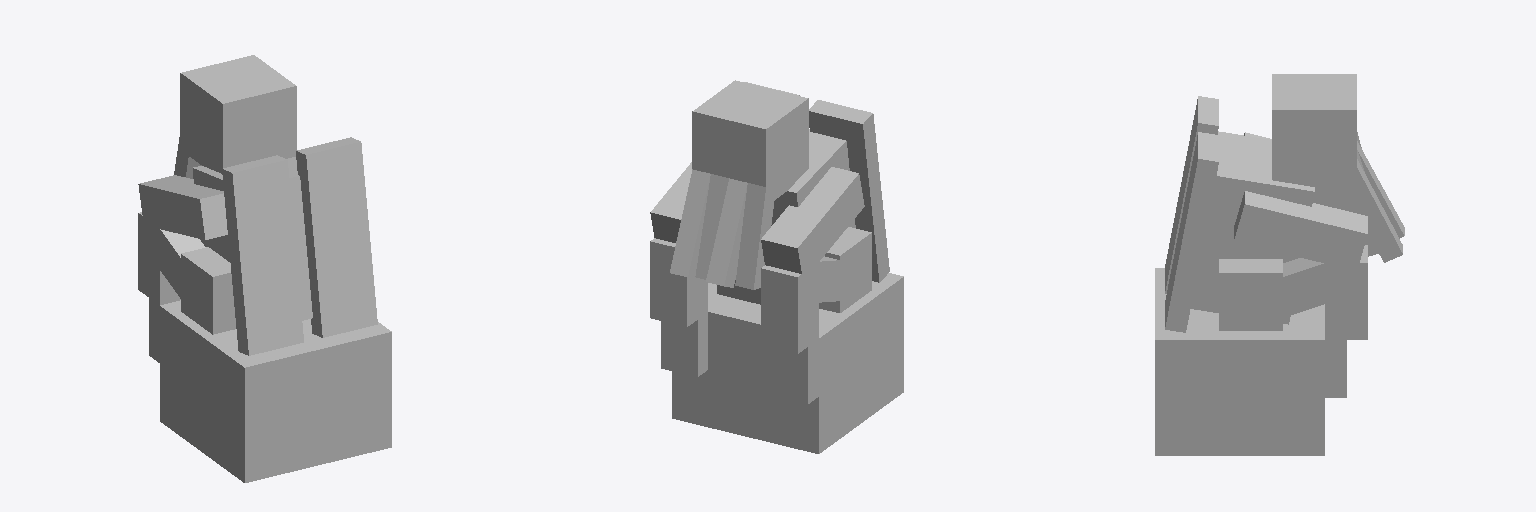
The model's file is cthulhustatue.obj.
3 renders of one model, left to right at view 1: azimuth 30°, elevation 25°; view 2: azimuth 150°, elevation 25°; view 3: azimuth 270°, elevation 25°, orthographic.
Parts seen in each view (by area): view 1: base, leftwing, rightwing, head, leftarm, leftleg1, body, leftleg3, leftleg2, leftfoot, tentacle1; view 2: base, head, leftarm, leftwing, leftleg3, rightleg3, body, tentacle1, tentacle2, leftleg1, leftfoot, tentacle4 (+4 smaller); view 3: base, head, body, rightarm, rightwing, rightleg1, rightleg3, rightleg2, tentacle4, leftwing, rightfoot, tentacle2 (+1 smaller).
Part boxes in pixels (x1,y1,x2,y2): base: (160,300,391,482); leftwing: (222,155,303,355); rightwing: (296,137,377,337); head: (180,55,296,173); leftarm: (138,175,227,239); leftleg1: (181,247,235,334); body: (193,157,312,320); leftleg3: (138,212,180,304); leftleg2: (153,229,205,299); leftfoot: (149,298,159,362); tentacle1: (174,132,201,178); base: (672,273,903,453); head: (692,80,808,205); leftarm: (761,167,864,276); leftwing: (809,100,889,282); leftleg3: (761,262,818,353); rightleg3: (650,238,707,326); body: (717,129,855,304); tentacle1: (735,183,775,289); tentacle2: (706,178,747,287); leftleg1: (819,227,871,312); leftfoot: (771,339,818,403); tentacle4: (670,169,710,278); base: (1155,268,1324,455); head: (1272,74,1356,186); body: (1191,131,1314,324); rightarm: (1234,191,1367,262); rightwing: (1165,132,1218,332); rightleg1: (1219,259,1282,330); rightleg3: (1325,245,1367,339); rightleg2: (1268,258,1335,318); tentacle4: (1339,159,1402,262); leftwing: (1165,96,1218,293); rightfoot: (1325,340,1346,397); tentacle2: (1357,141,1404,238).
Size of the model in its own units: 0.5 by 1.06 by 0.7327.